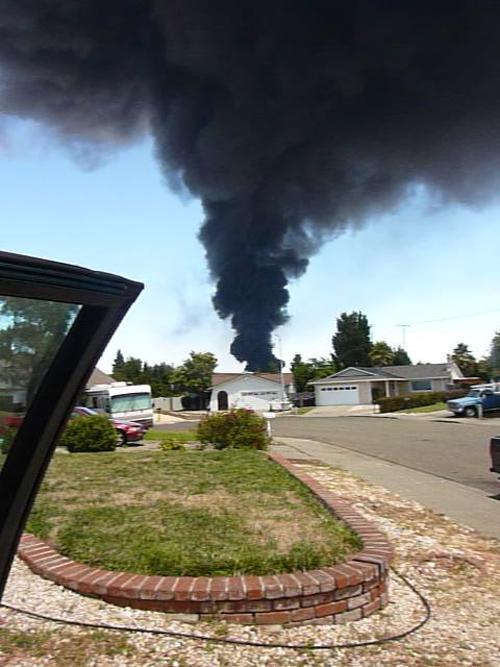smoke: (222, 0, 423, 185)
